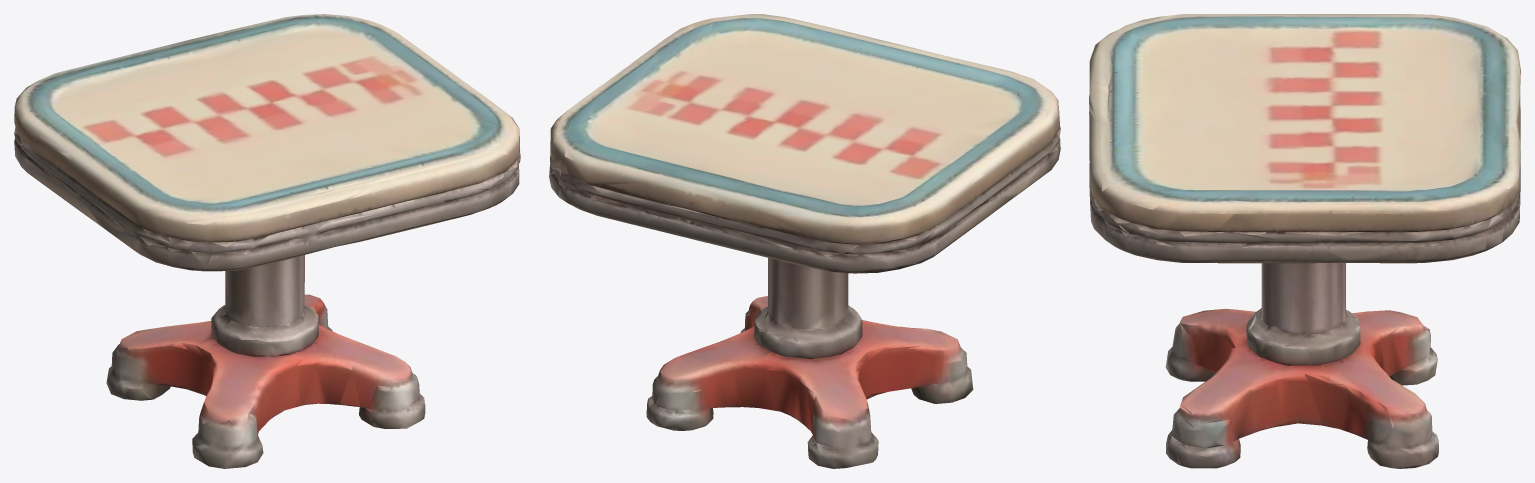
File: table16.glb
The picture shows the model from 3 angles, left to right: view 1: azimuth 30°, elevation 25°; view 2: azimuth 150°, elevation 25°; view 3: azimuth 270°, elevation 25°; orthographic projection. The views are drawn at different scales.
Bounding box in the file's own units: 0.2048 × 0.1493 × 0.1892.
Materials: 1 (1 with a texture image).
